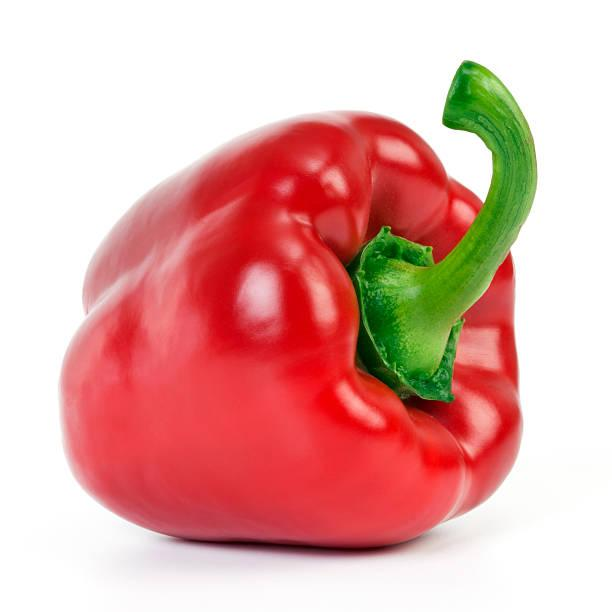Capsicum: (61, 62, 535, 544)
